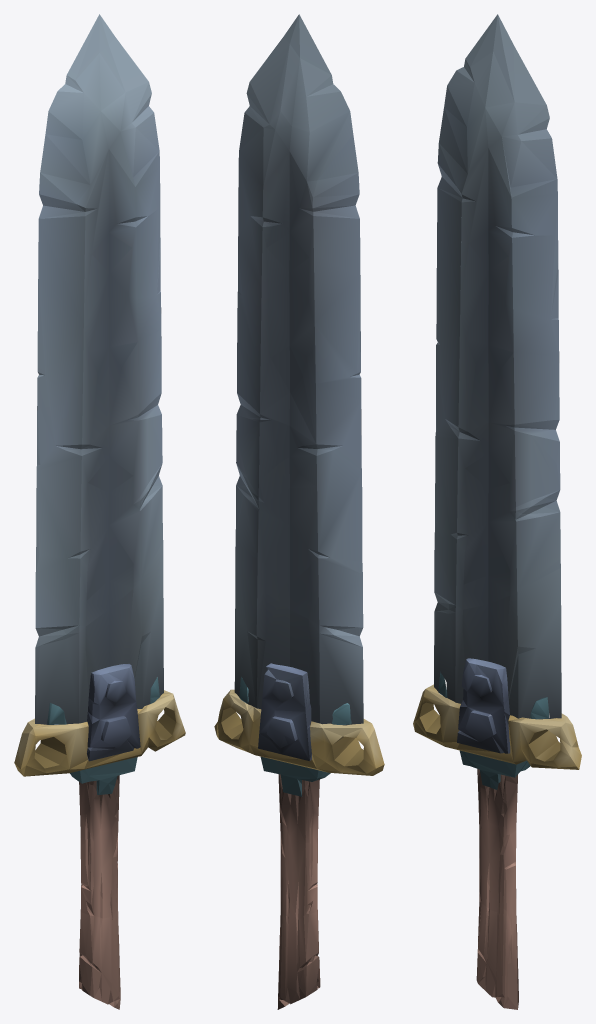
File: epic_BroadSword.fbx
3 views of the same model, side by side, from view 1: azimuth 30°, elevation 25°; view 2: azimuth 150°, elevation 25°; view 3: azimuth 330°, elevation 25° (orthographic).
Parts seen in each view (by area): view 1: epic_BroadSword_mesh; view 2: epic_BroadSword_mesh; view 3: epic_BroadSword_mesh.
Part boxes in pixels (x1,y1,x2,y2): epic_BroadSword_mesh: (14,14,185,1009); epic_BroadSword_mesh: (214,14,384,1009); epic_BroadSword_mesh: (413,14,581,1009).
Bounding box in the file's own units: 0.435 × 2.5 × 0.1671.
